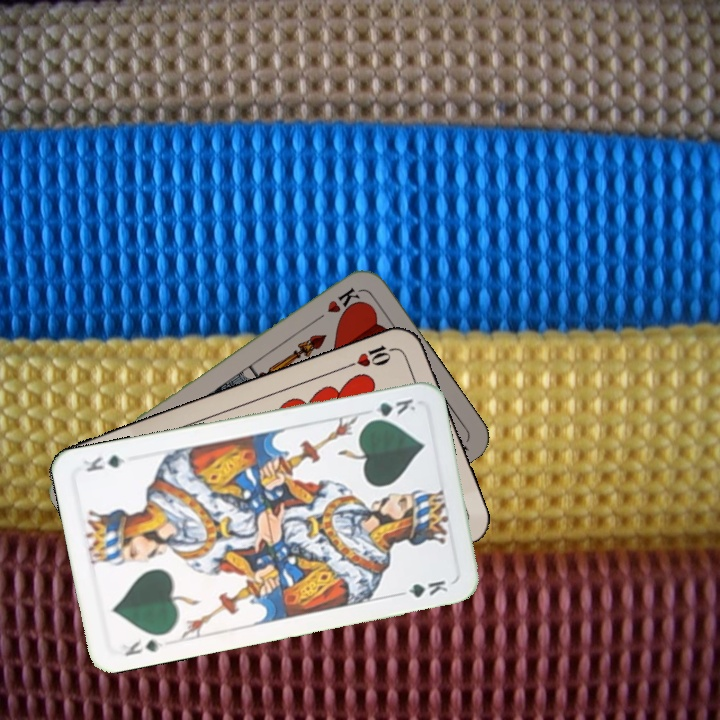GK: (363, 394, 418, 425), (115, 634, 166, 659)
H10: (343, 341, 400, 371)
HK: (309, 283, 363, 326)
